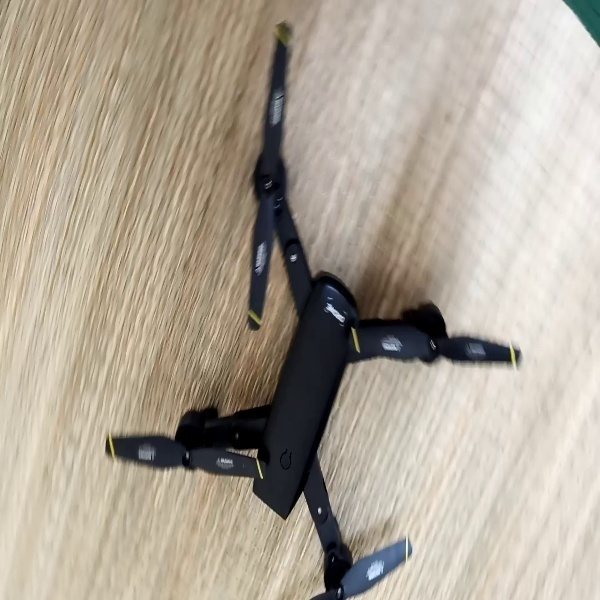drone: (101, 19, 526, 600)
